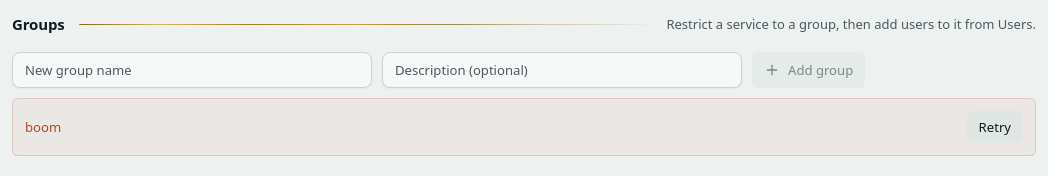
Scenario: GroupsPanel › shows error with retry when load fails
The image size is (1048, 176).
Expected: the message shows "boom", [25, 118, 61, 136]
Click the button "Retry" at [995, 127], box [967, 111, 1023, 143]
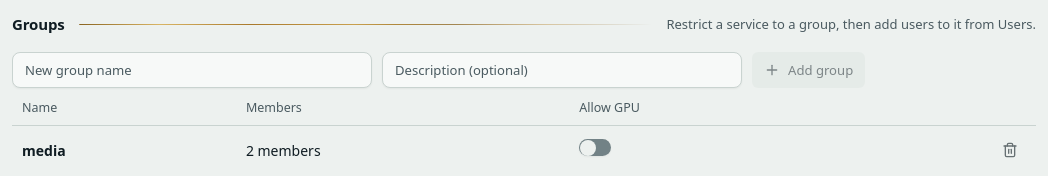
Expected: the text "media" is shown, [22, 140, 66, 160]
